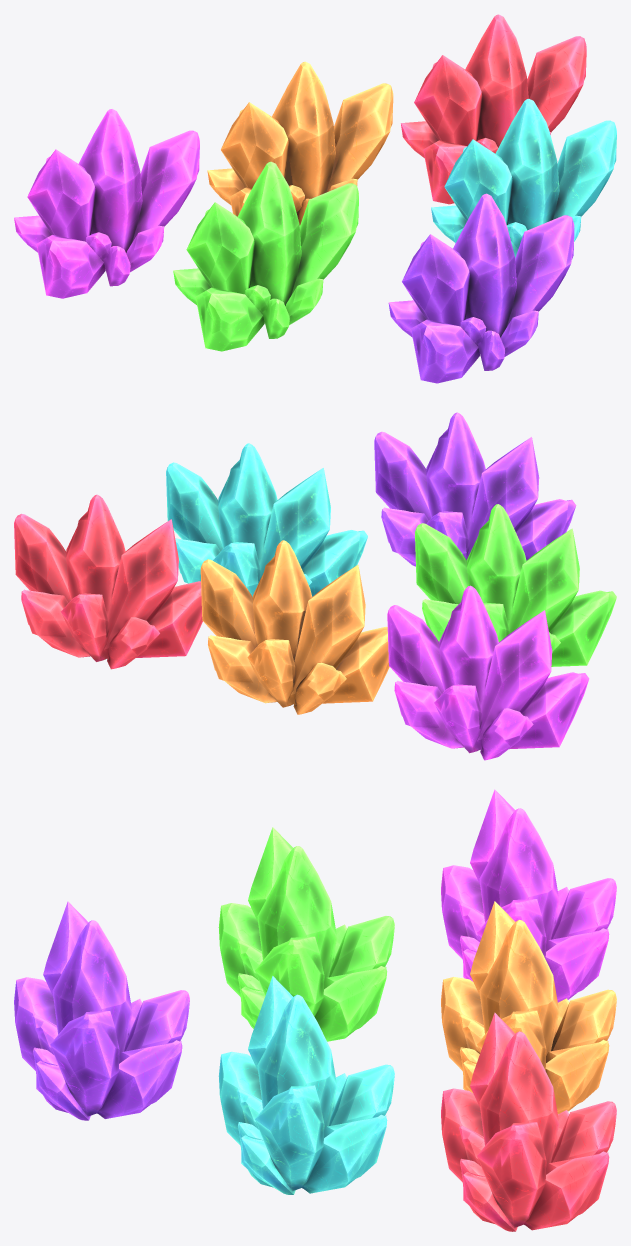
The model's file is stylized_crystals.glb.
3 views of the same model, one above another, from view 1: azimuth 30°, elevation 25°; view 2: azimuth 150°, elevation 25°; view 3: azimuth 270°, elevation 25° (orthographic). The views are drawn at different scales.
Parts seen in each view (by area): view 1: Cylinder.004_3, Cylinder.005_4, Cylinder.001_1, Cylinder_0, Cylinder.002_2, Cylinder.006_5; view 2: Cylinder.004_3, Cylinder_0, Cylinder.002_2, Cylinder.006_5, Cylinder.001_1, Cylinder.005_4; view 3: Cylinder_0, Cylinder.006_5, Cylinder.005_4, Cylinder.001_1, Cylinder.004_3, Cylinder.002_2.
Boxes of the visible parts, x1,y1,x2,y2 form: Cylinder.004_3: (14,109,199,298); Cylinder.005_4: (388,193,574,383); Cylinder.001_1: (173,161,358,351); Cylinder_0: (401,14,586,204); Cylinder.002_2: (207,61,393,225); Cylinder.006_5: (431,99,616,257); Cylinder.004_3: (387,585,589,760); Cylinder_0: (14,494,202,669); Cylinder.002_2: (200,540,389,714); Cylinder.006_5: (166,443,367,596); Cylinder.001_1: (415,504,616,666); Cylinder.005_4: (374,412,576,566); Cylinder_0: (441,1012,616,1231); Cylinder.006_5: (218,976,394,1194); Cylinder.005_4: (14,901,189,1120); Cylinder.001_1: (218,827,394,1041); Cylinder.004_3: (441,789,616,1002); Cylinder.002_2: (441,901,616,1113).
Bounding box in the file's own units: 8.77 × 2.46 × 6.85.
Materials: 6 (6 with a texture image).
